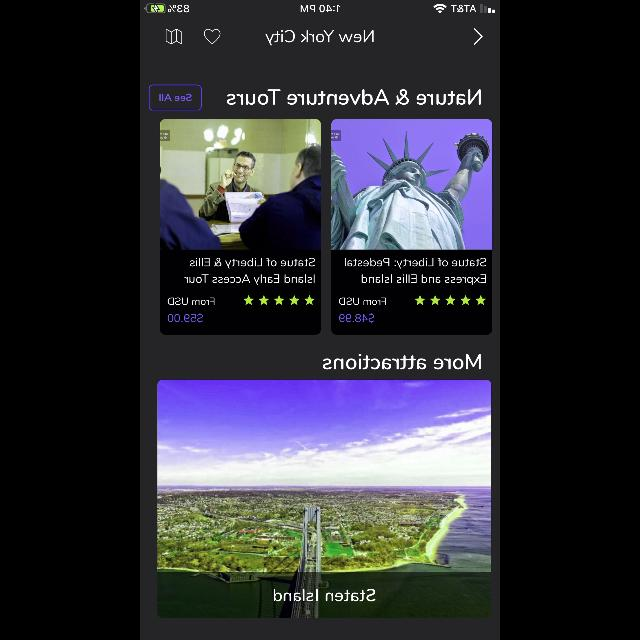icon: (414, 295, 486, 305), (243, 295, 314, 305), (203, 30, 220, 44), (166, 30, 182, 44), (474, 28, 482, 46)
image: (158, 380, 490, 618), (160, 120, 320, 250), (332, 119, 492, 249)
text: (227, 90, 481, 106), (324, 354, 481, 370), (265, 30, 373, 46), (185, 274, 315, 286), (344, 258, 486, 268), (191, 258, 315, 268), (361, 275, 485, 285), (274, 589, 374, 601), (338, 313, 374, 323), (168, 313, 202, 323), (168, 298, 214, 304), (339, 298, 385, 304)
textbutton: (148, 85, 202, 111)
uppertaskbar: (140, 0, 500, 14)
